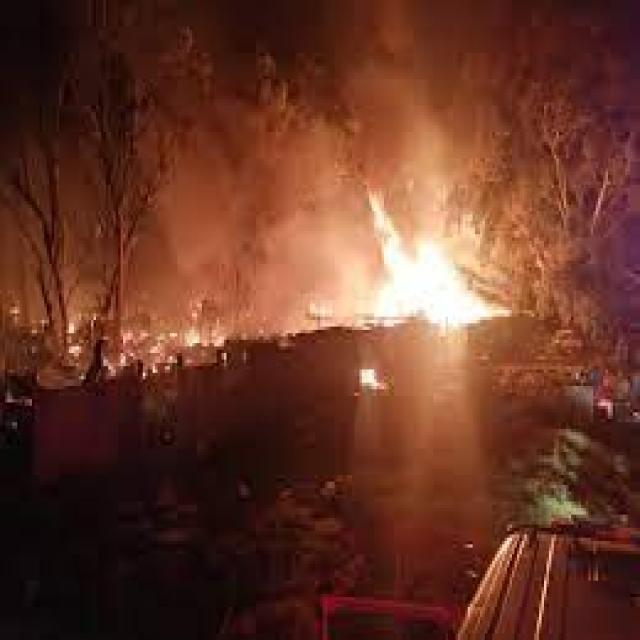Fire: (339, 198, 494, 342)
Smoke: (134, 6, 511, 270)
